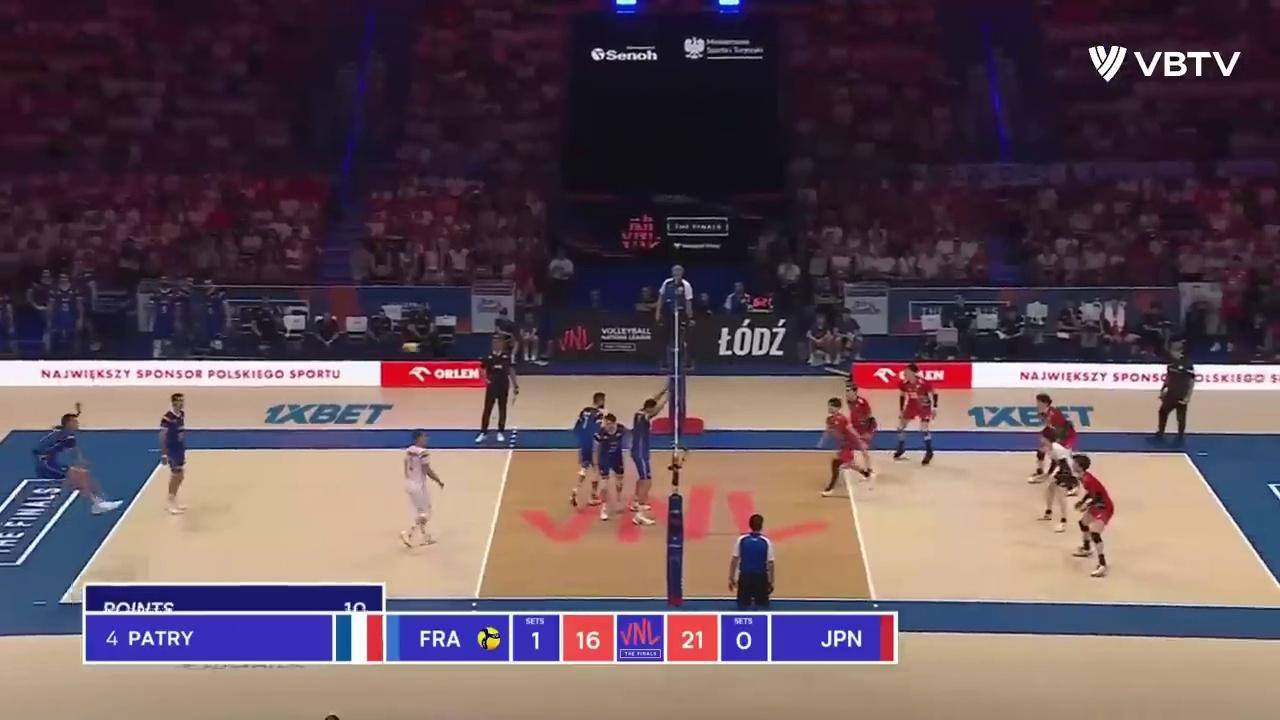ball: (398, 343, 421, 353)
